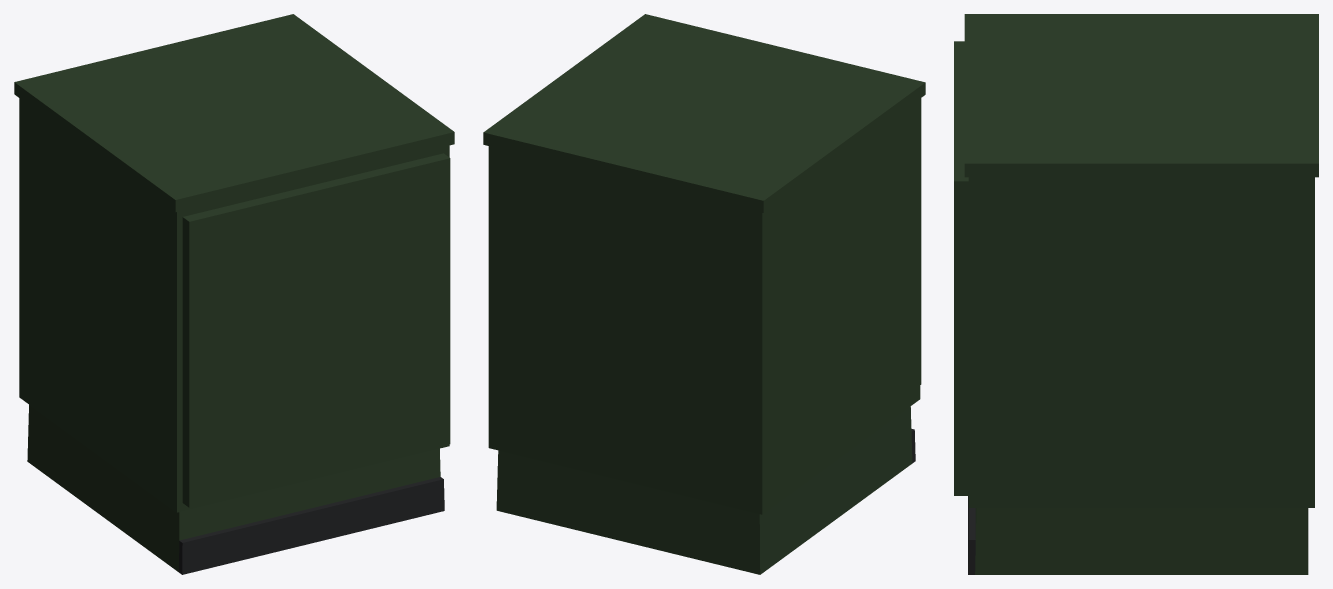
The model's file is Dishwasher_01_B.gltf.
3 views of the same model, side by side, from view 1: azimuth 30°, elevation 25°; view 2: azimuth 150°, elevation 25°; view 3: azimuth 270°, elevation 25° (orthographic). The views are drawn at different scales.
Visible parts, largest first — view 1: Dishwasher_01_B, DoorDishwasher_01_B; view 2: Dishwasher_01_B, DoorDishwasher_01_B; view 3: Dishwasher_01_B, DoorDishwasher_01_B.
Boxes of the visible parts, left/top/right/bottom form: Dishwasher_01_B: left=14, top=14, right=454, bottom=574; DoorDishwasher_01_B: left=182, top=153, right=450, bottom=507; Dishwasher_01_B: left=483, top=14, right=925, bottom=574; DoorDishwasher_01_B: left=920, top=98, right=921, bottom=384; Dishwasher_01_B: left=964, top=14, right=1318, bottom=574; DoorDishwasher_01_B: left=954, top=41, right=968, bottom=495.
Bounding box in the file's own units: 1.02 × 1.32 × 1.05.
1 material, 1 textured.
